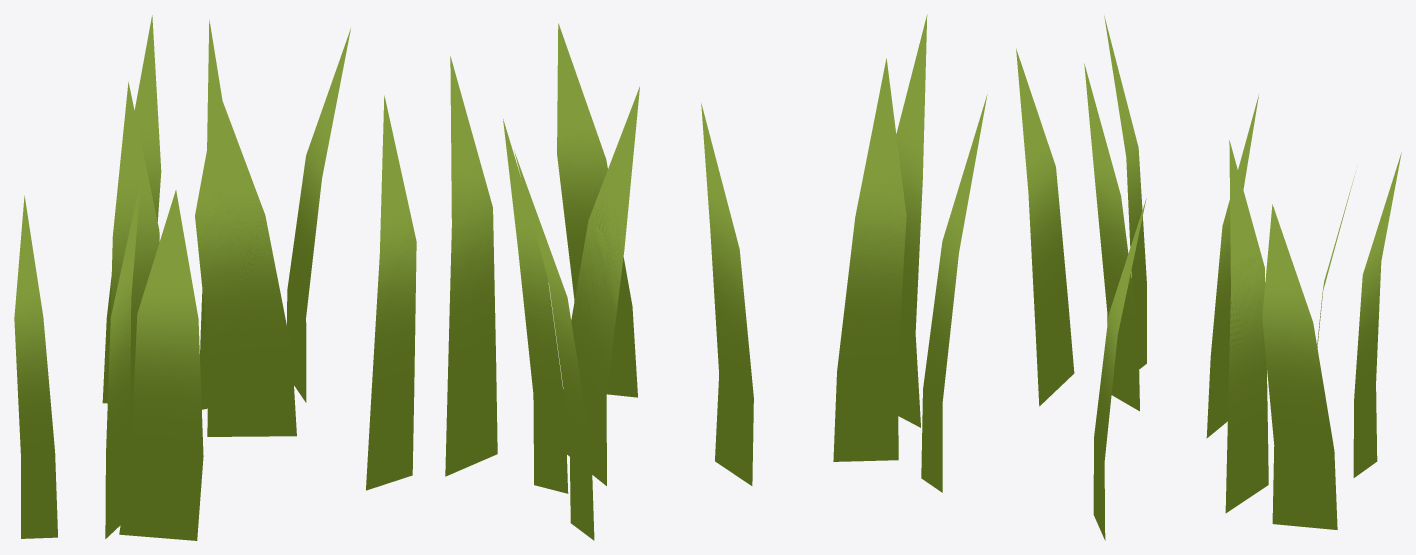
File: Sm_Grass4L.fbx
3 renders of one model, left to right at view 1: azimuth 30°, elevation 25°; view 2: azimuth 150°, elevation 25°; view 3: azimuth 270°, elevation 25°, orthographic. The views are drawn at different scales.
Visible parts, largest first — view 1: Sm_Grass4L; view 2: Sm_Grass4L; view 3: Sm_Grass4L.
Part boxes in pixels (x1,y1,x2,y2): Sm_Grass4L: [14, 15, 416, 540]; Sm_Grass4L: [445, 14, 987, 540]; Sm_Grass4L: [1016, 16, 1401, 540].
Bounding box in the file's own units: 53.08 × 47.48 × 45.65.
